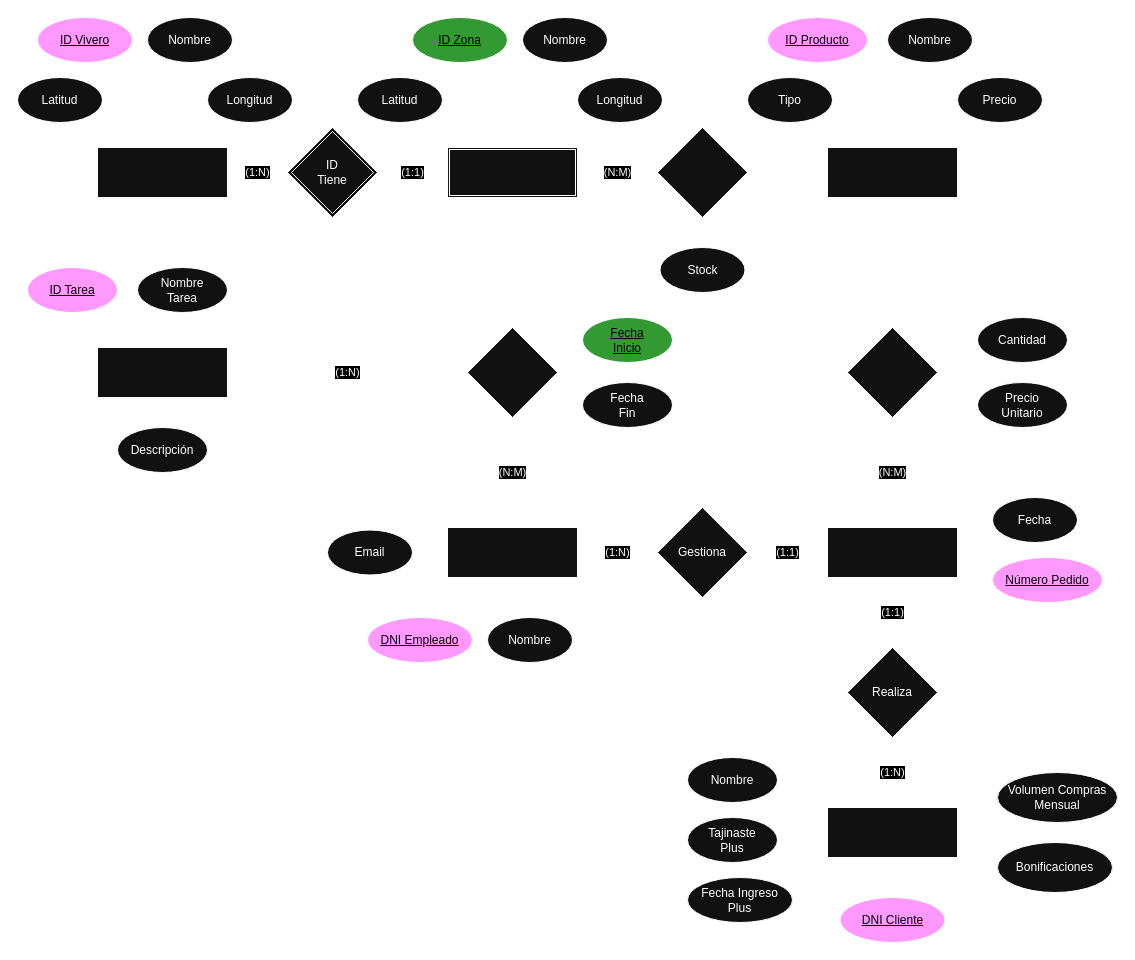
This 1135x960 diagram has some shape labels left out. The centre of each missing label's shape, as x and y in pixels:
"Cliente" goes at point 892,832.
"Contiene" goes at point 892,372.
"Dispone" goes at point 702,172.
"Empleado" goes at point 512,552.
"Pedido" goes at point 892,552.
"Pertenece" goes at point 512,372.
"Producto" goes at point 892,172.
"Tarea" goes at point 162,372.
"Vivero" goes at point 162,172.
"Zona" goes at point 512,172.
